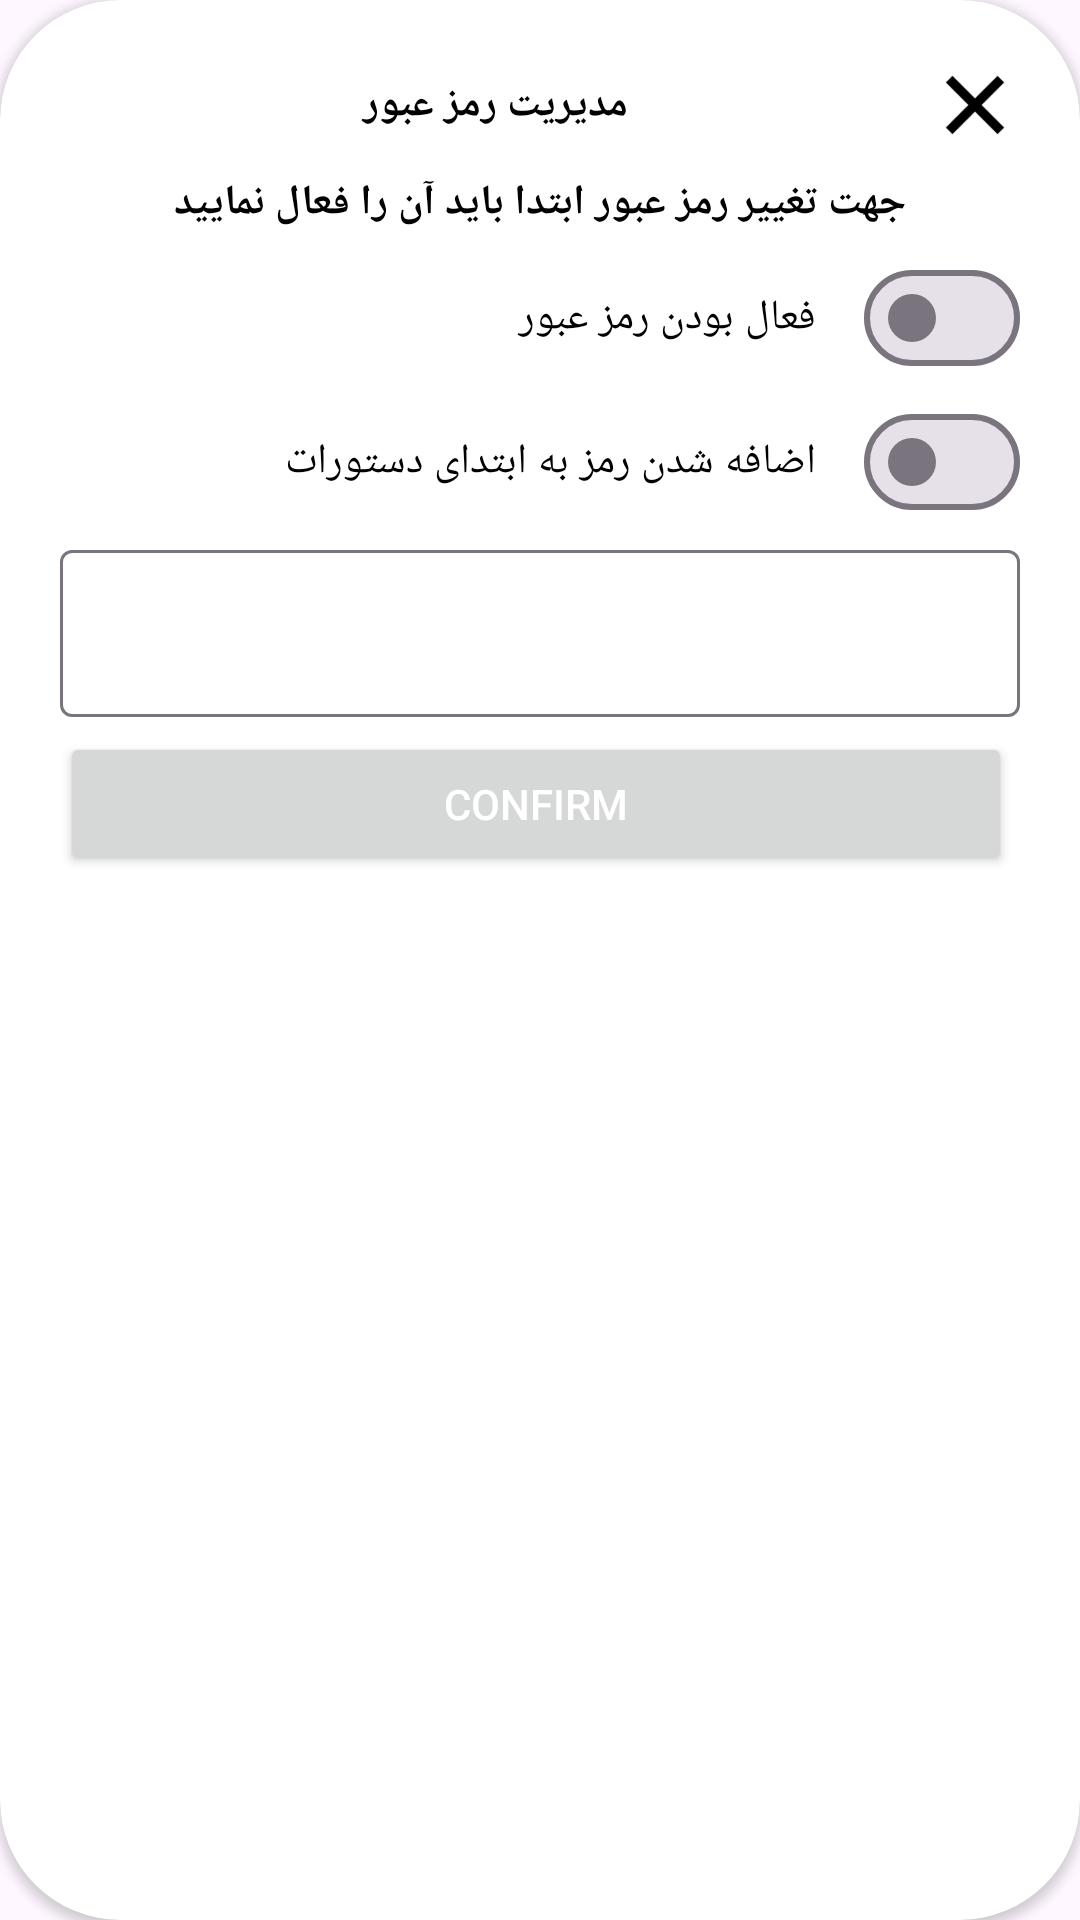

Named icons in this screenshot (1080w x 1920h) and their centers, (x,y):
close: (975,105)
